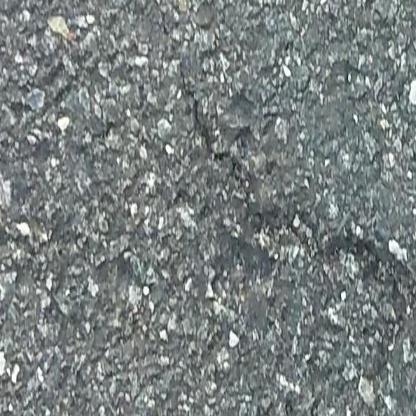Cracks: (176, 81, 416, 342)
